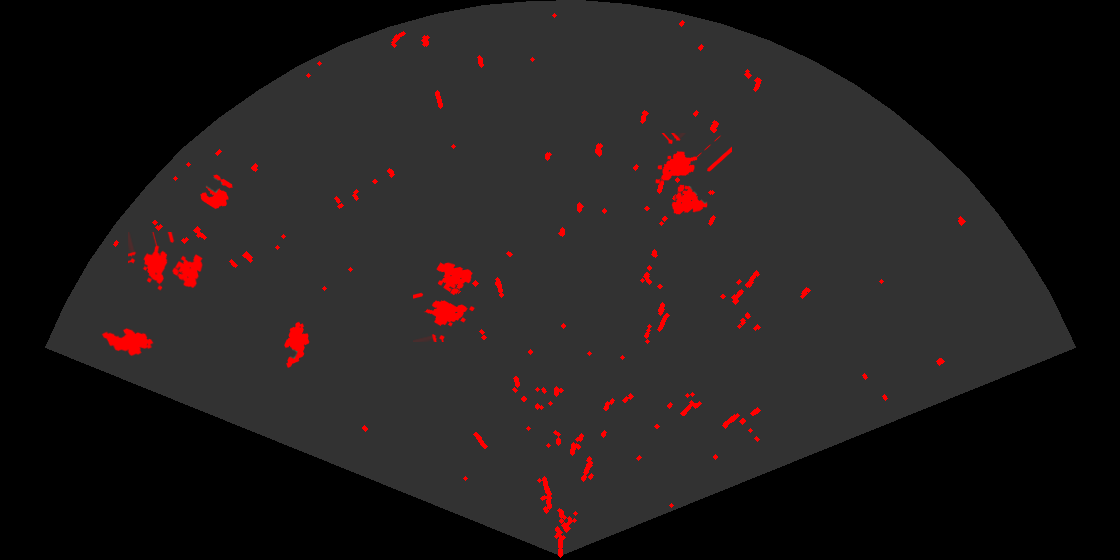AUV: (100, 326, 155, 358), (283, 320, 311, 370)
ball: (199, 173, 234, 211)
cage: (654, 133, 732, 216), (413, 261, 476, 342), (128, 232, 204, 292)
